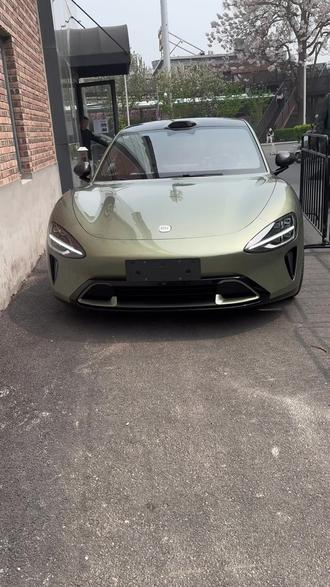su7: (54, 113, 305, 312)
